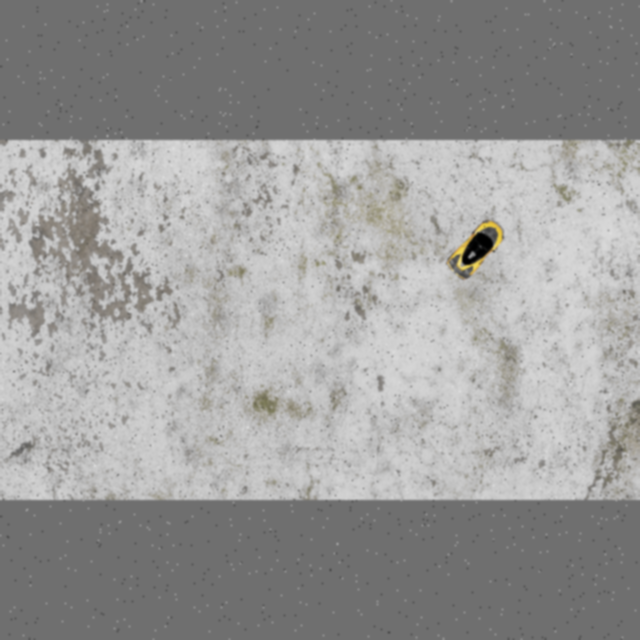car: (440, 213, 512, 284)
